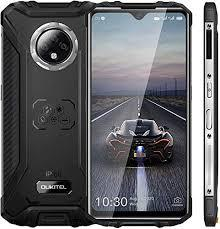Smartphone: (94, 4, 189, 220), (8, 4, 93, 220), (199, 0, 218, 229)
